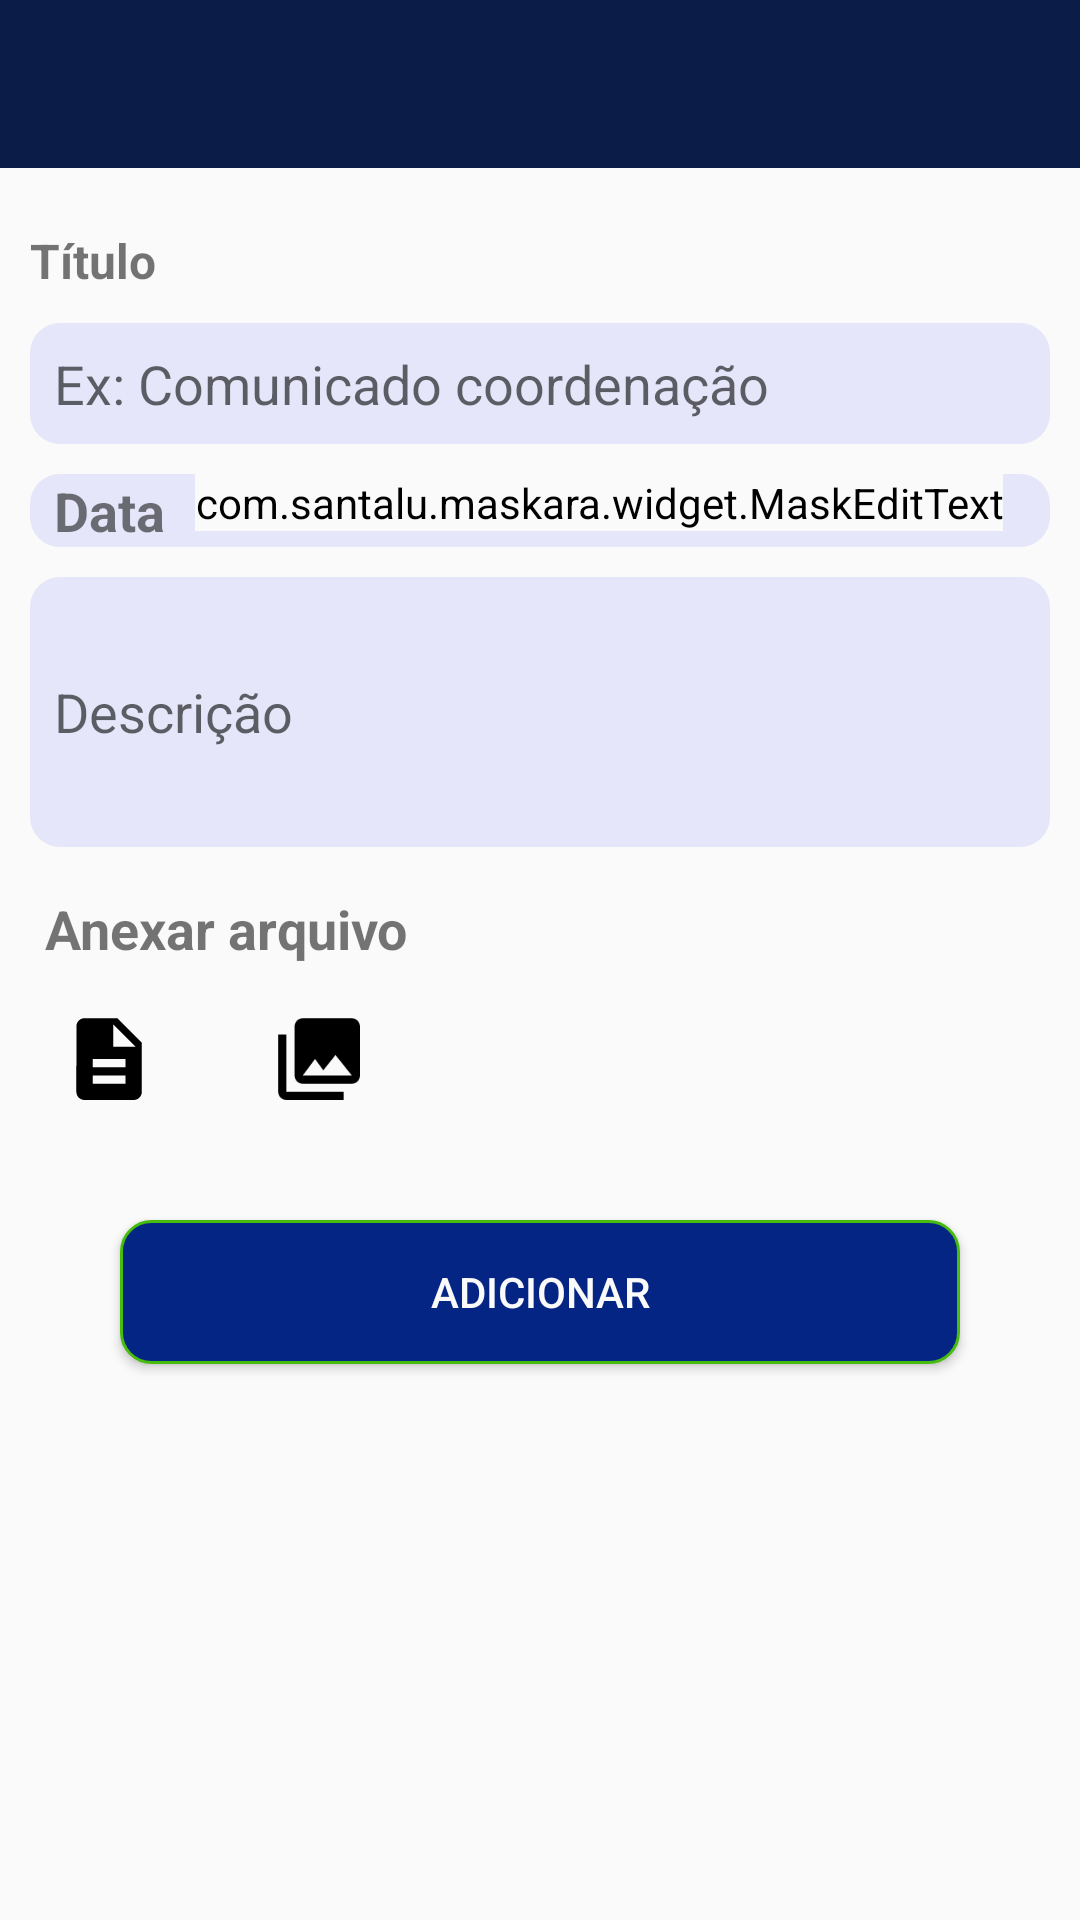

Screen size 1080x1920. Icon name, then its center in pixels as [x,y]:
description: [109,1059]
foto: [319,1059]
